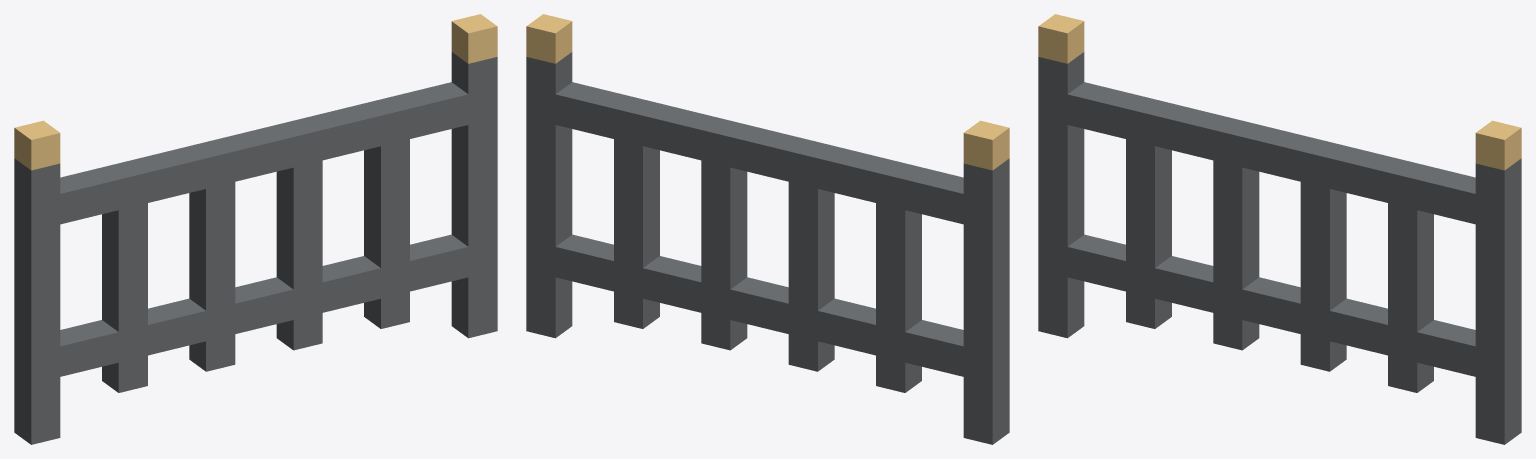
The model's file is pocket-borough-park-fence__288.glb.
3 views of the same model, side by side, from view 1: azimuth 30°, elevation 25°; view 2: azimuth 150°, elevation 25°; view 3: azimuth 330°, elevation 25° (orthographic).
Parts seen in each view (by area): view 1: pocket-borough-park-fence; view 2: pocket-borough-park-fence; view 3: pocket-borough-park-fence.
Part boxes in pixels (x1=…): pocket-borough-park-fence: x1=14, y1=14, x2=497, y2=444; pocket-borough-park-fence: x1=526, y1=14, x2=1009, y2=444; pocket-borough-park-fence: x1=1038, y1=14, x2=1521, y2=444.
Bounding box in the file's own units: 2 × 1.25 × 0.125.
